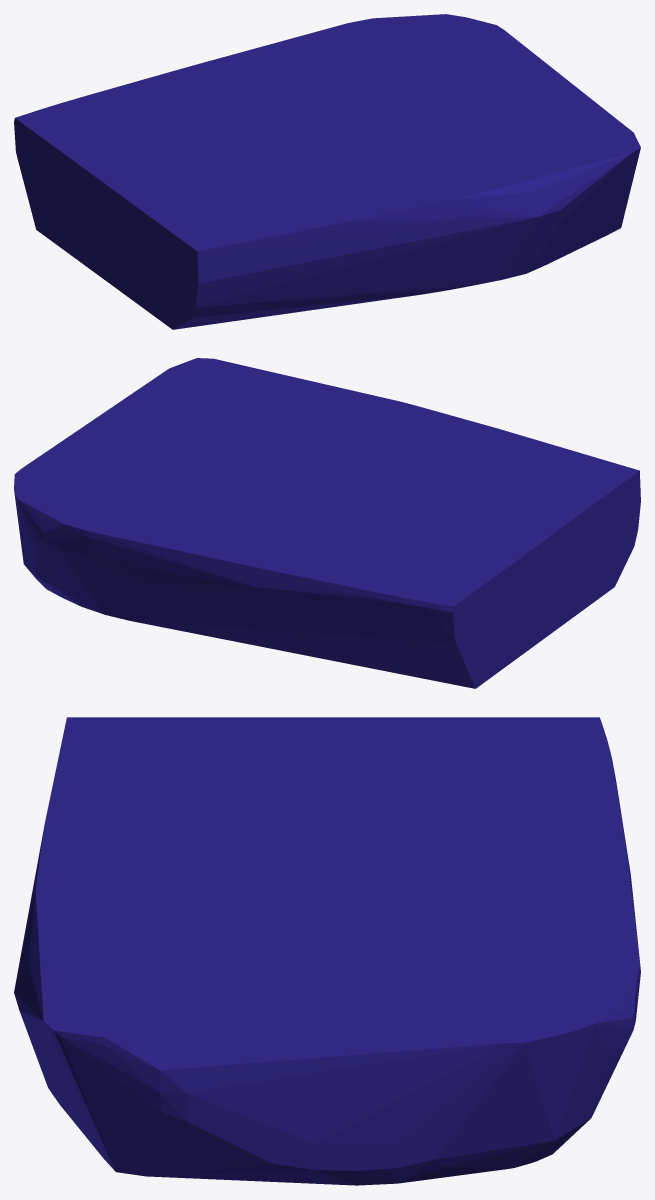
3 renders of one model, top to bottom at view 1: azimuth 30°, elevation 25°; view 2: azimuth 150°, elevation 25°; view 3: azimuth 270°, elevation 25°, orthographic. The views are drawn at different scales.
Bounding box in the file's own units: 0.0561 × 0.011 × 0.0446.
